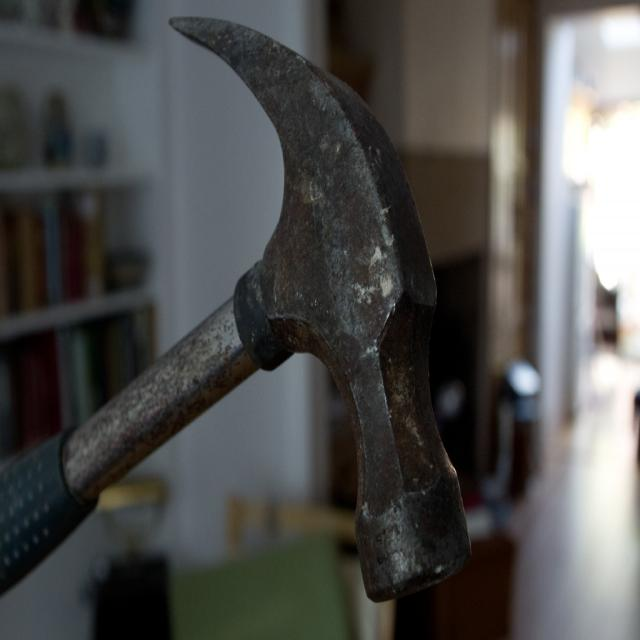hammer: (0, 7, 470, 594)
